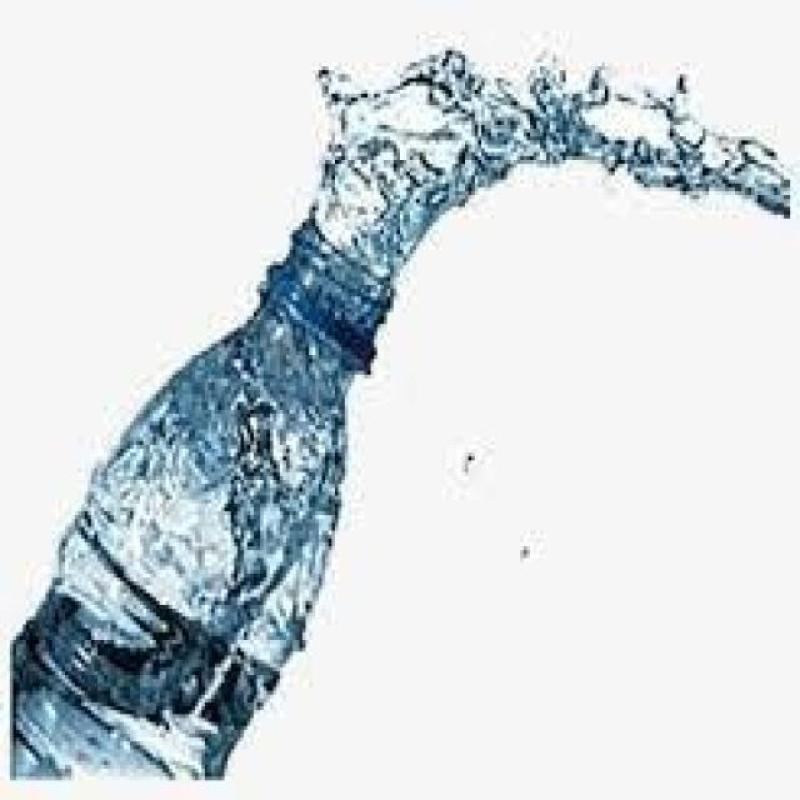botella: (9, 226, 397, 780)
